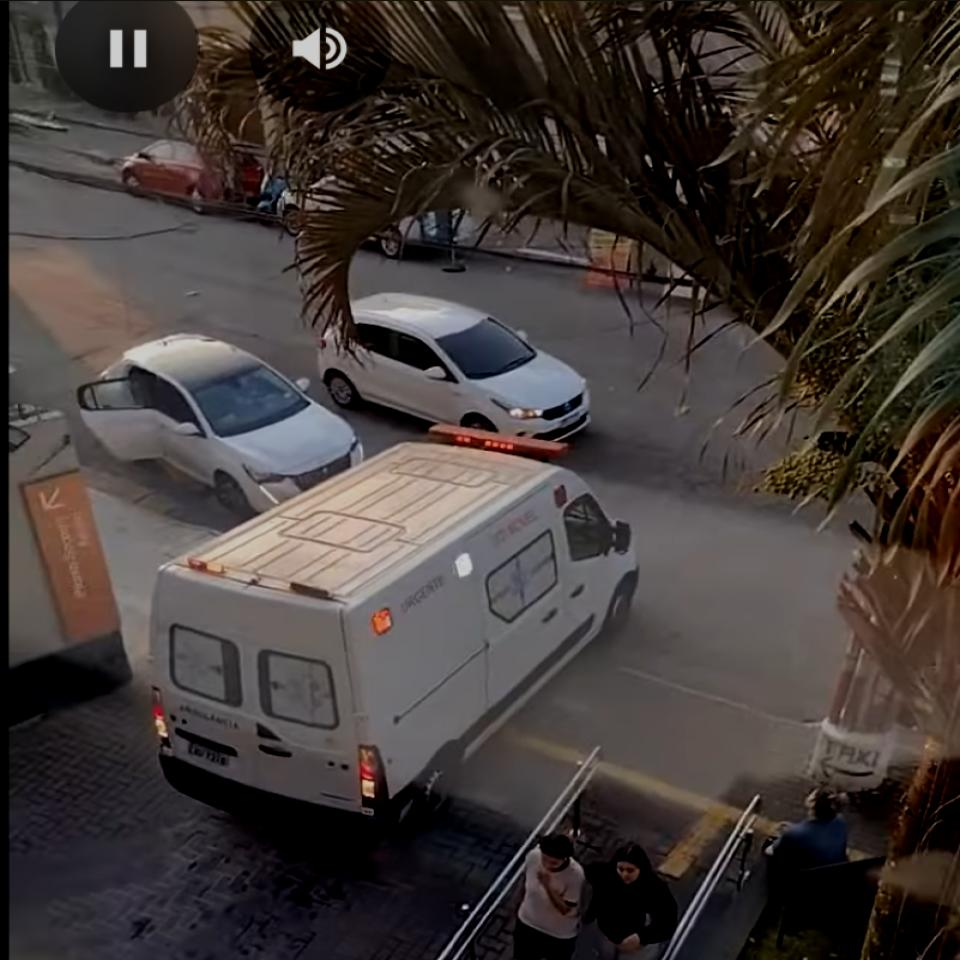ambulancia: (148, 422, 645, 846)
